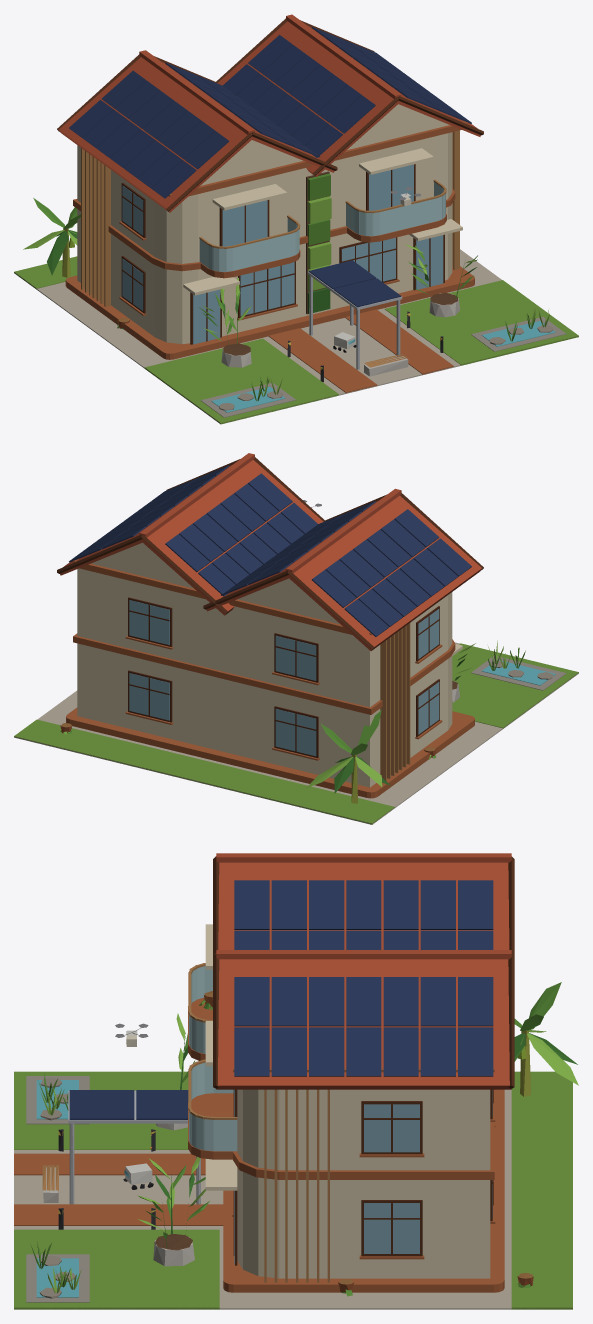
File: home_2.glb
3 renders of one model, top to bottom at view 1: azimuth 30°, elevation 25°; view 2: azimuth 150°, elevation 25°; view 3: azimuth 270°, elevation 25°, orthographic. The views are drawn at different scales.
Parts seen in each view (by area): view 1: body; view 2: body; view 3: body.
Part boxes in pixels (box(x1,y1,x2,y2)): body: box(14, 14, 578, 424); body: box(14, 453, 578, 824); body: box(14, 853, 578, 1309).
Size of the model in its own units: 15.93 by 9.37 by 16.07.
